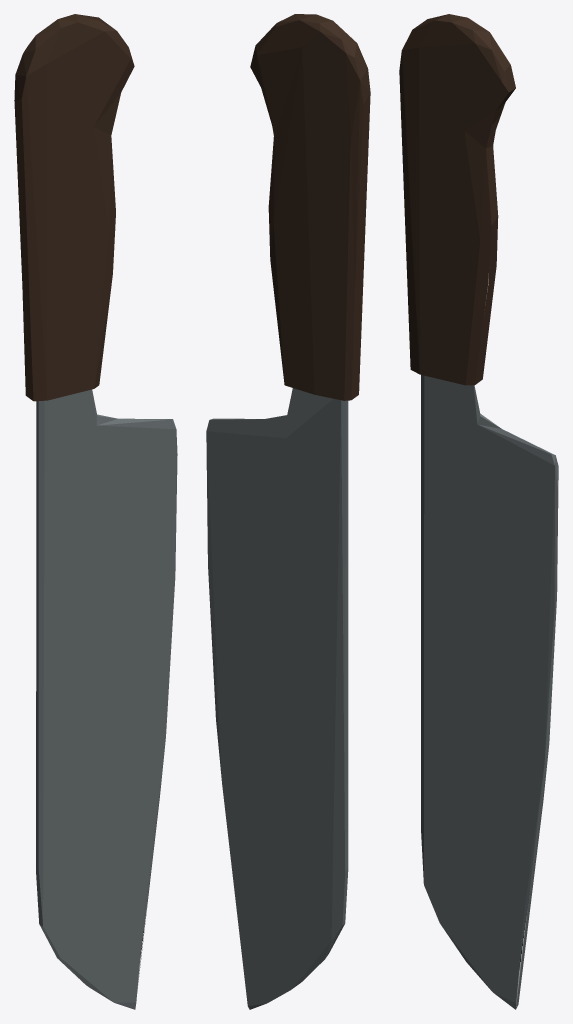
Rendered from Knife02.fbx.
The picture shows the model from 3 angles, left to right: view 1: azimuth 30°, elevation 25°; view 2: azimuth 150°, elevation 25°; view 3: azimuth 330°, elevation 25°; orthographic projection. The views are drawn at different scales.
Parts seen in each view (by area): view 1: Knife02LowPoly; view 2: Knife02LowPoly; view 3: Knife02LowPoly.
Part boxes in pixels (bbox=[...]): Knife02LowPoly: bbox=[14, 14, 177, 1009]; Knife02LowPoly: bbox=[206, 14, 370, 1009]; Knife02LowPoly: bbox=[399, 14, 558, 1009].
Size of the model in its own units: 4.64 by 27.93 by 0.6676.
